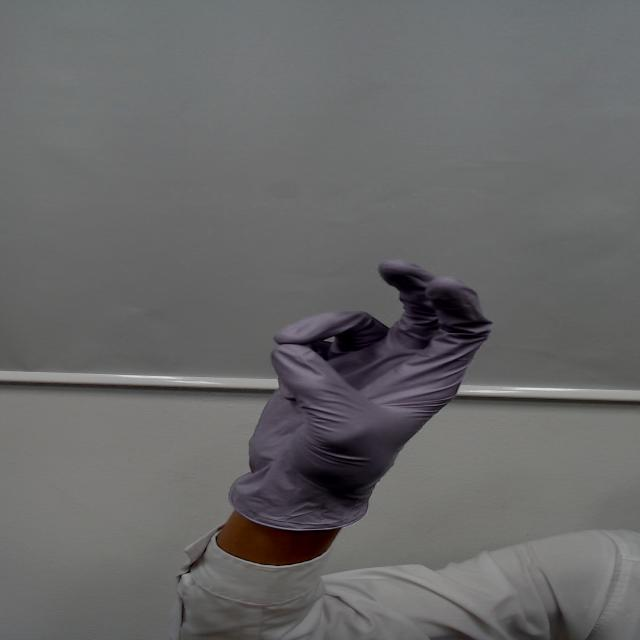glove: (230, 249, 502, 471)
